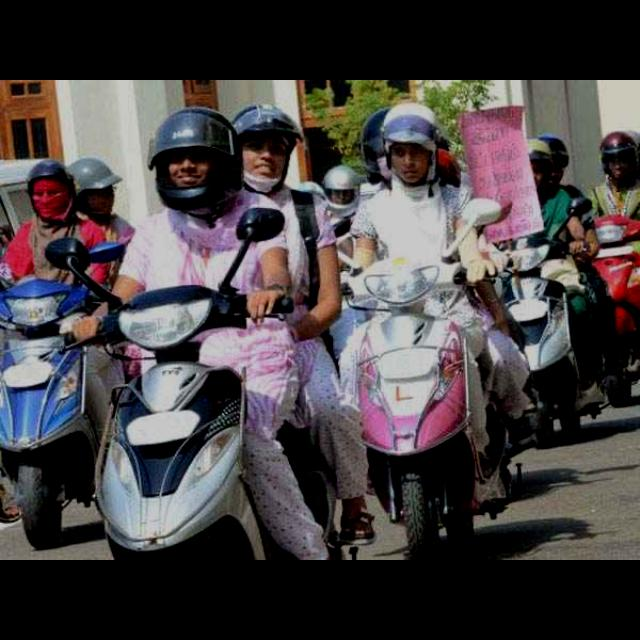With Helmet: (143, 102, 245, 216), (378, 102, 440, 185), (19, 153, 79, 224), (64, 156, 120, 218), (318, 157, 364, 219), (597, 130, 639, 180)
